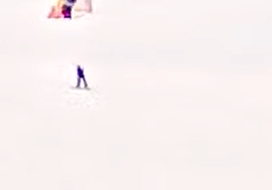snowboarder: (63, 60, 100, 94)
